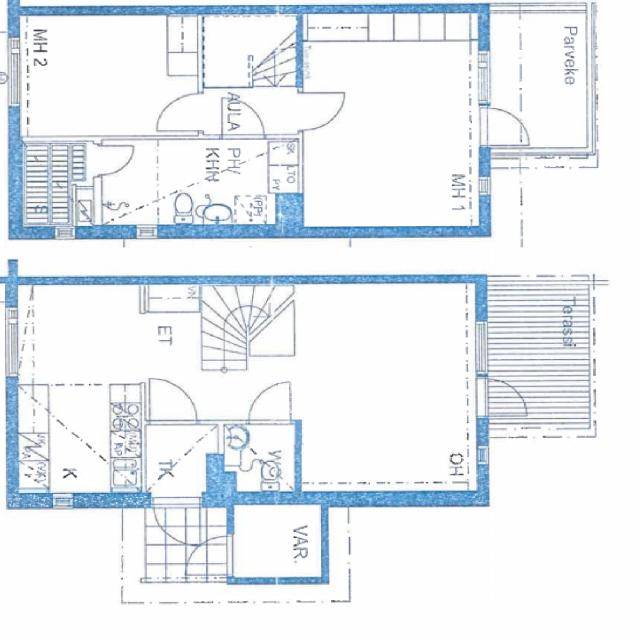door: (153, 491, 200, 548), (150, 378, 196, 425), (475, 378, 530, 416), (478, 108, 532, 144), (248, 381, 292, 425), (184, 536, 234, 574), (222, 97, 264, 139), (297, 92, 343, 130), (157, 94, 203, 130), (92, 146, 134, 174)
